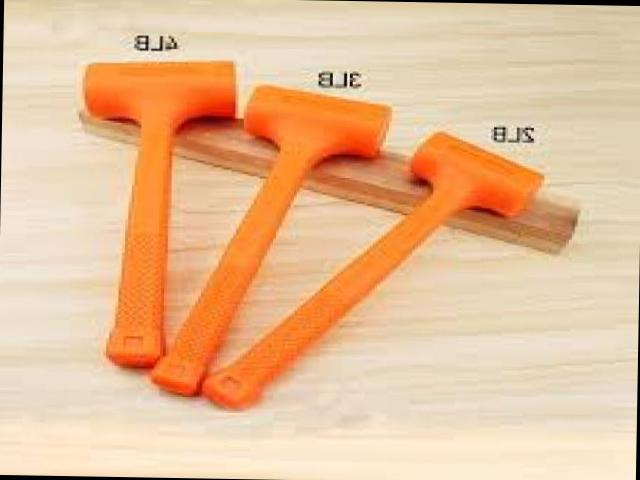hammer: (202, 126, 544, 414), (153, 82, 392, 401), (78, 54, 238, 370)
